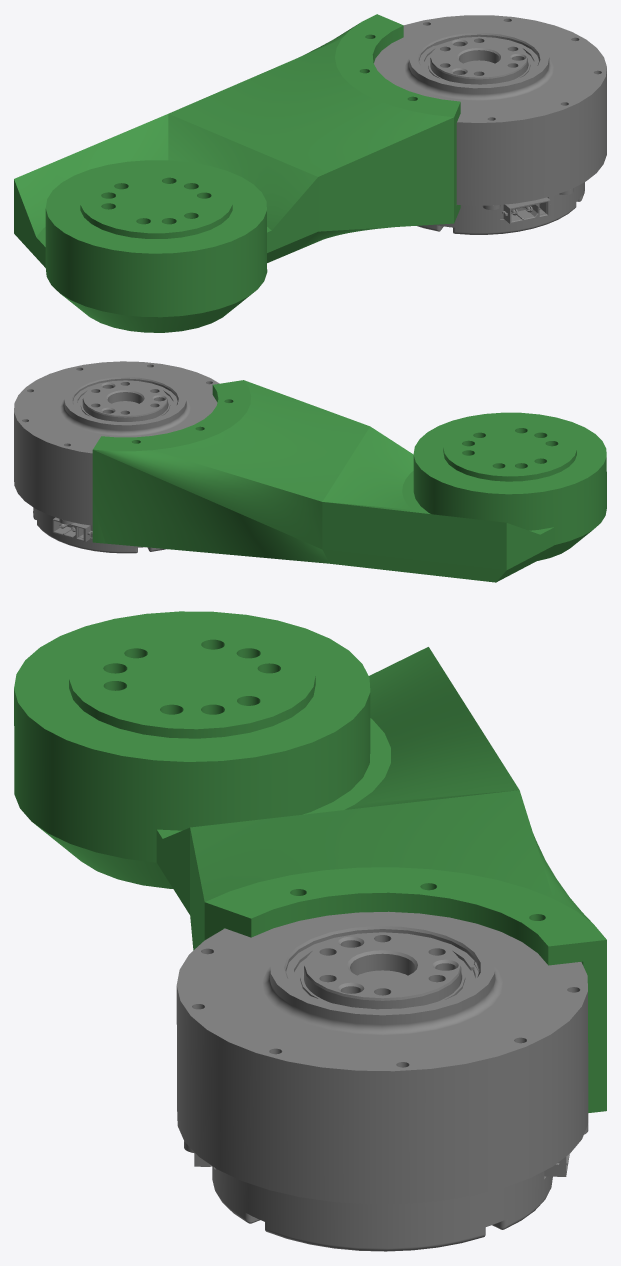
Rendered from RS02_LeftAnklePitch.dae.
3 renders of one model, top to bottom at view 1: azimuth 30°, elevation 25°; view 2: azimuth 150°, elevation 25°; view 3: azimuth 270°, elevation 25°, orthographic. The views are drawn at different scales.
Visible parts, largest first — view 1: RS02_LeftAnklePitch; view 2: RS02_LeftAnklePitch; view 3: RS02_LeftAnklePitch.
Boxes of the visible parts, x1,y1,x2,y2 form: RS02_LeftAnklePitch: (14,14,606,332); RS02_LeftAnklePitch: (14,361,606,582); RS02_LeftAnklePitch: (14,611,606,1251).
Bounding box in the file's own units: 0.2084 × 0.113 × 0.0454.
